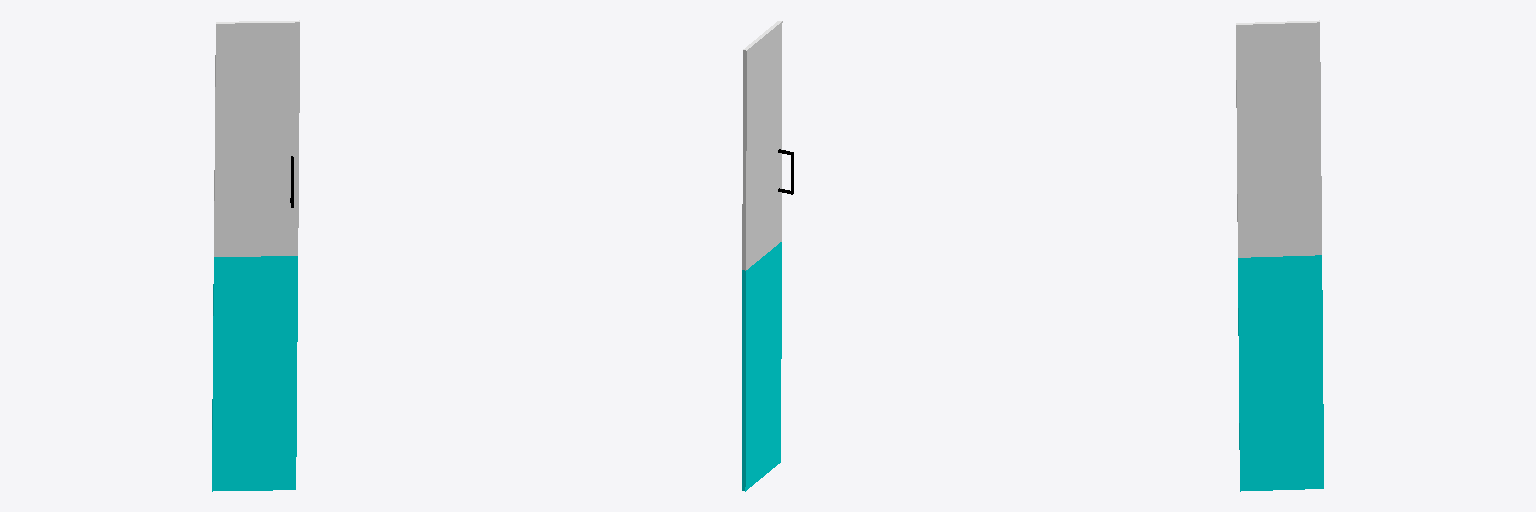
robot.urdf — shelf:
<?xml version="1.0" ?>
<!-- =================================================================================== -->
<!-- |    This document was autogenerated by xacro from shelf.urdf.xacro               | -->
<!-- |    EDITING THIS FILE BY HAND IS NOT RECOMMENDED                                 | -->
<!-- =================================================================================== -->
<robot name="shelf">
  <link name="world"/>
  <joint name="fixed" type="fixed">
    <parent link="world"/>
    <child link="shelf"/>
    <origin rpy="-0.008 -0.001 -3.085" xyz="0.943 -0.952 0.903"/>
  </joint>
  <link name="shelf">
    <inertial>
      <origin rpy="0 0 0" xyz="0 0 0"/>
      <mass value="5"/>
      <inertia ixx="0.375863761" ixy="0" ixz="0" iyy="0.33972447250000004" iyz="0" izz="0.375863761"/>
    </inertial>
    <visual>
      <origin rpy="0 0 0" xyz="0 -0.1475 -0.4515"/>
      <geometry>
        <box size="0.016 0.295 0.903"/>
      </geometry>
      <material name="shelf_material">
        <color rgba="0.0 1.0 1.0 1"/>
      </material>
    </visual>
    <collision>
      <origin rpy="0 0 0" xyz="0 -0.1475 -0.4515"/>
      <geometry>
        <box size="0.016 0.295 0.903"/>
      </geometry>
    </collision>
  </link>
  <link name="door">
    <inertial>
      <origin rpy="0 0 0" xyz="0 0 0"/>
      <mass value="5.8"/>
      <inertia ixx="0.4333886585" ixy="0" ixz="0" iyy="0.39146708384" iyz="0" izz="0.4333886585"/>
    </inertial>
    <visual>
      <origin rpy="0 0 0" xyz="0 0.1475 0"/>
      <geometry>
        <box size="0.016 0.295 0.9"/>
      </geometry>
      <material name="door_material">
        <color rgba="1.0 1.0 1.0 1"/>
      </material>
    </visual>
    <collision>
      <origin rpy="0 0 0" xyz="0 0.1475 0"/>
      <geometry>
        <box size="0.016 0.295 0.9"/>
      </geometry>
    </collision>
  </link>
  <link name="door_hinge"/>
  <joint name="door_hinge_joint" type="fixed">
    <parent link="shelf"/>
    <child link="door_hinge"/>
    <dynamics damping="2.0" friction="8.0"/>
    <origin xyz="0 -0.295 0.45"/>
  </joint>
  <link name="axis_link"/>
  <joint name="axis_joint" type="fixed">
    <parent link="door_hinge"/>
    <child link="axis_link"/>
    <origin xyz="0.004 0.027 -0.150"/>
  </joint>
  <joint name="articulation_joint" type="revolute">
    <parent link="axis_link"/>
    <child link="measured_joint_link"/>
    <dynamics damping="2.0" friction="4.0"/>
    <origin xyz="0 0 0"/>
    <axis xyz="0 0 -1"/>
    <limit effort="100" lower="0" upper="1.57" velocity="10.0"/>
  </joint>
  <joint name="door_link" type="fixed">
    <parent link="measured_joint_link"/>
    <child link="door"/>
    <origin xyz="-0.004 -0.027 0.150"/>
  </joint>
  <link name="handle_link">
    <inertial>
      <origin rpy="0 0 0" xyz="0 0 0"/>
      <mass value="0.1"/>
      <inertia ixx="0.001" ixy="0" ixz="0" iyy="0.001" iyz="0" izz="0.001"/>
    </inertial>
    <visual>
      <origin rpy="0 0 0" xyz="0 0 0"/>
      <geometry>
        <box size="0.01 0.01 0.17"/>
      </geometry>
      <material name="handle_material">
        <color rgba="0.0 0.0 0.0 1"/>
      </material>
    </visual>
    <collision>
      <origin rpy="0 0 0" xyz="0 0 0"/>
      <geometry>
        <box size="0.01 0.01 0.17"/>
      </geometry>
      <material name="">
        <contact name="steel"/>
      </material>
    </collision>
  </link>
  <link name="handle_support_left">
    <inertial>
      <origin rpy="0 0 0" xyz="0 0 0"/>
      <mass value="0.1"/>
      <inertia ixx="0.001" ixy="0" ixz="0" iyy="0.001" iyz="0" izz="0.001"/>
    </inertial>
    <visual>
      <origin rpy="0 0 0" xyz="0 0 0"/>
      <geometry>
        <box size="0.056 0.01 0.01"/>
      </geometry>
      <material name="handle_material">
        <color rgba="0.0 0.0 0.0 1"/>
      </material>
    </visual>
    <collision>
      <origin rpy="0 0 0" xyz="0 0 0"/>
      <geometry>
        <box size="0.056 0.01 0.01"/>
      </geometry>
      <material name="">
        <contact name="steel"/>
      </material>
    </collision>
  </link>
  <link name="handle_support_right">
    <inertial>
      <origin rpy="0 0 0" xyz="0 0 0"/>
      <mass value="0.1"/>
      <inertia ixx="0.001" ixy="0" ixz="0" iyy="0.001" iyz="0" izz="0.001"/>
    </inertial>
    <visual>
      <origin rpy="0 0 0" xyz="0 0 0"/>
      <geometry>
        <box size="0.056 0.01 0.01"/>
      </geometry>
      <material name="handle_material">
        <color rgba="0.0 0.0 0.0 1"/>
      </material>
    </visual>
    <collision>
      <origin rpy="0 0 0" xyz="0 0 0"/>
      <geometry>
        <box size="0.056 0.01 0.01"/>
      </geometry>
      <material name="">
        <contact name="steel"/>
      </material>
    </collision>
  </link>
  <joint name="handle_joint" type="fixed">
    <parent link="door"/>
    <child link="handle_link"/>
    <origin rpy="0 0 0" xyz="0.064 0.27 -0.15"/>
    <!-- height handle + half the width door, 0.30 minus some offset -->
  </joint>
  <joint name="handle_support_left_joint" type="fixed">
    <parent link="handle_link"/>
    <child link="handle_support_left"/>
    <origin rpy="0 0 0" xyz="-0.028 0 0.08"/>
  </joint>
  <joint name="handle_support_right_joint" type="fixed">
    <parent link="handle_link"/>
    <child link="handle_support_right"/>
    <origin rpy="0 0 0" xyz="-0.028 0 -0.08"/>
  </joint>
  <link name="measured_joint_link"/>
  <link name="measured_joint_link_test"/>
  <joint name="measured_test_handle_joint" type="fixed">
    <parent link="handle_link"/>
    <child link="measured_joint_link_test"/>
    <origin rpy="0 0 0" xyz="-0.06 -0.243 0.0"/>
  </joint>
</robot>

--- Render facts (derived) ---
The picture shows the robot from 3 angles, left to right: view 1: azimuth 90°, elevation 25°; view 2: azimuth 150°, elevation 25°; view 3: azimuth 270°, elevation 25°; orthographic projection.
Model shelf with 10 links and 9 joints (1 revolute, 8 fixed), rooted at world, posed every joint at zero.
Links seen in each view (by area): view 1: shelf, door; view 2: door, shelf; view 3: door, shelf.
Link boxes in pixels (x1,y1,x2,y2): shelf: (212, 256, 297, 491); door: (214, 20, 299, 256); door: (742, 21, 782, 270); shelf: (742, 242, 781, 491); door: (1236, 20, 1321, 257); shelf: (1238, 255, 1323, 491).
Bounding box of the posed robot: 0.0796 × 0.3097 × 1.81 m (x, y, z).
Geometry: primitives only (box / cylinder / sphere), no mesh files.